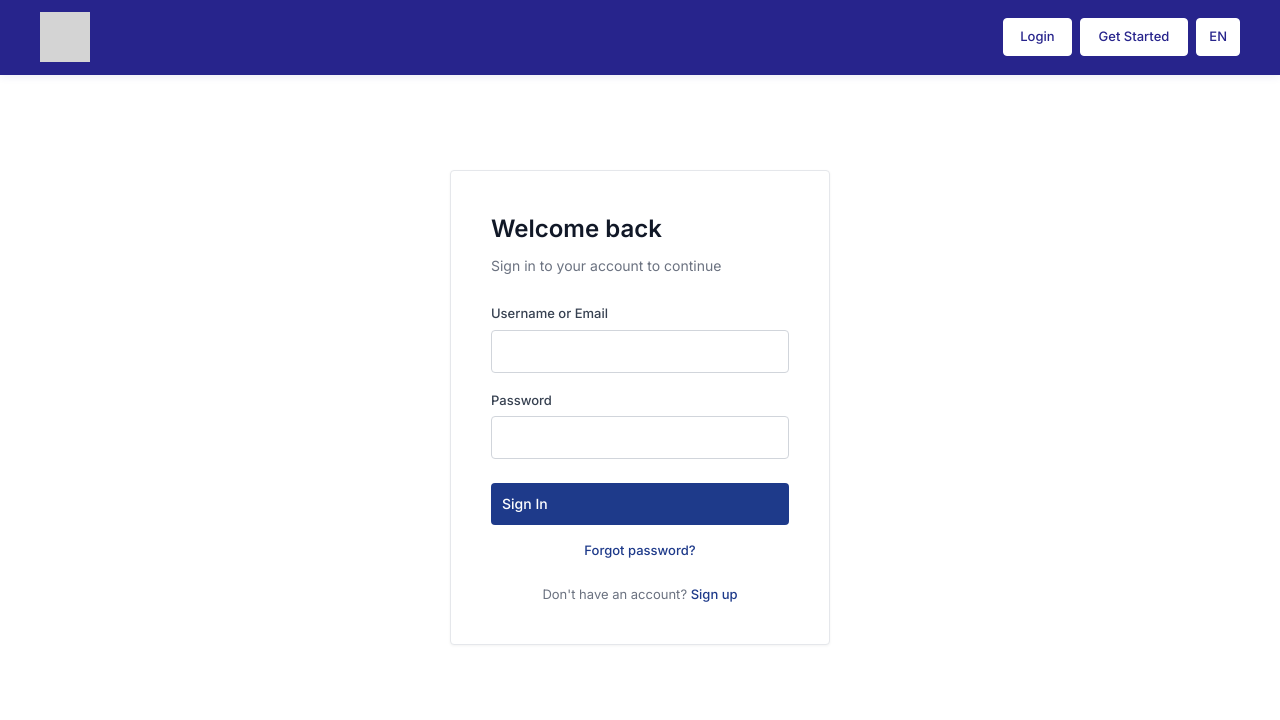
Test: Login Flow › shows error for unapproved account
In the field: (640, 352) 491,330 -> 789,373, type "pendinguser"
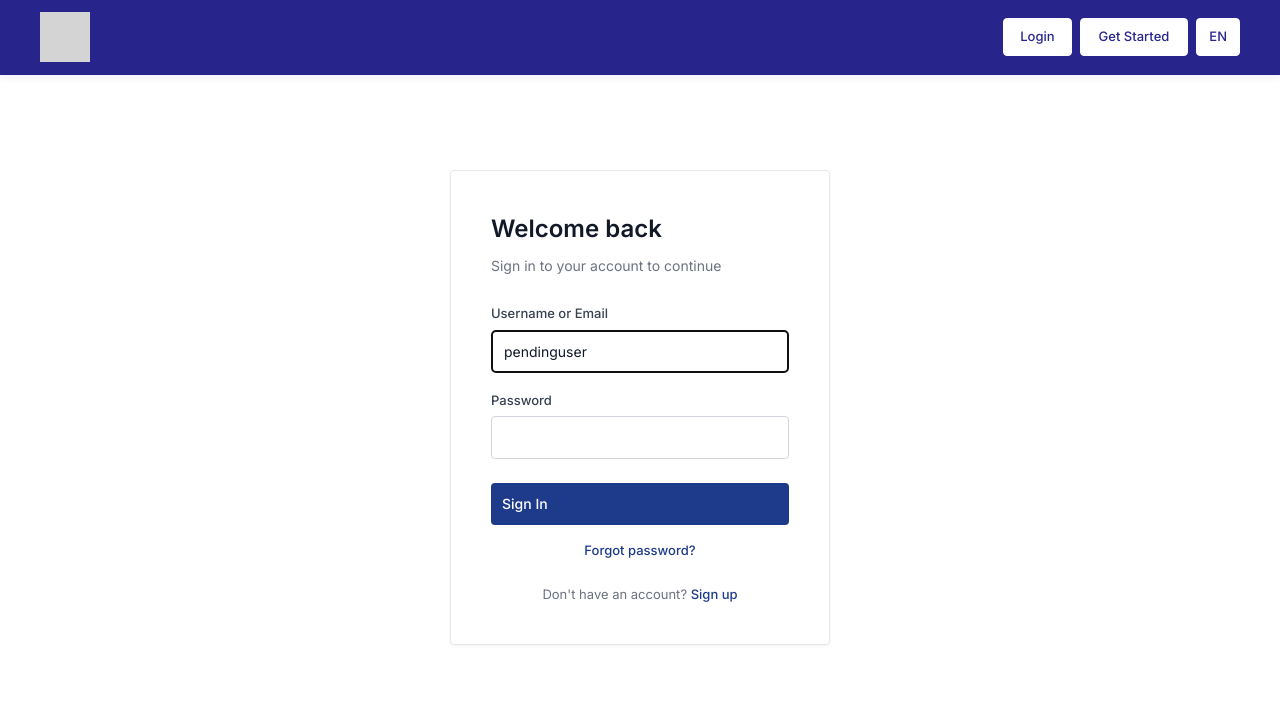
In the password field: (640, 438) 491,416 -> 789,459, type "pass123"
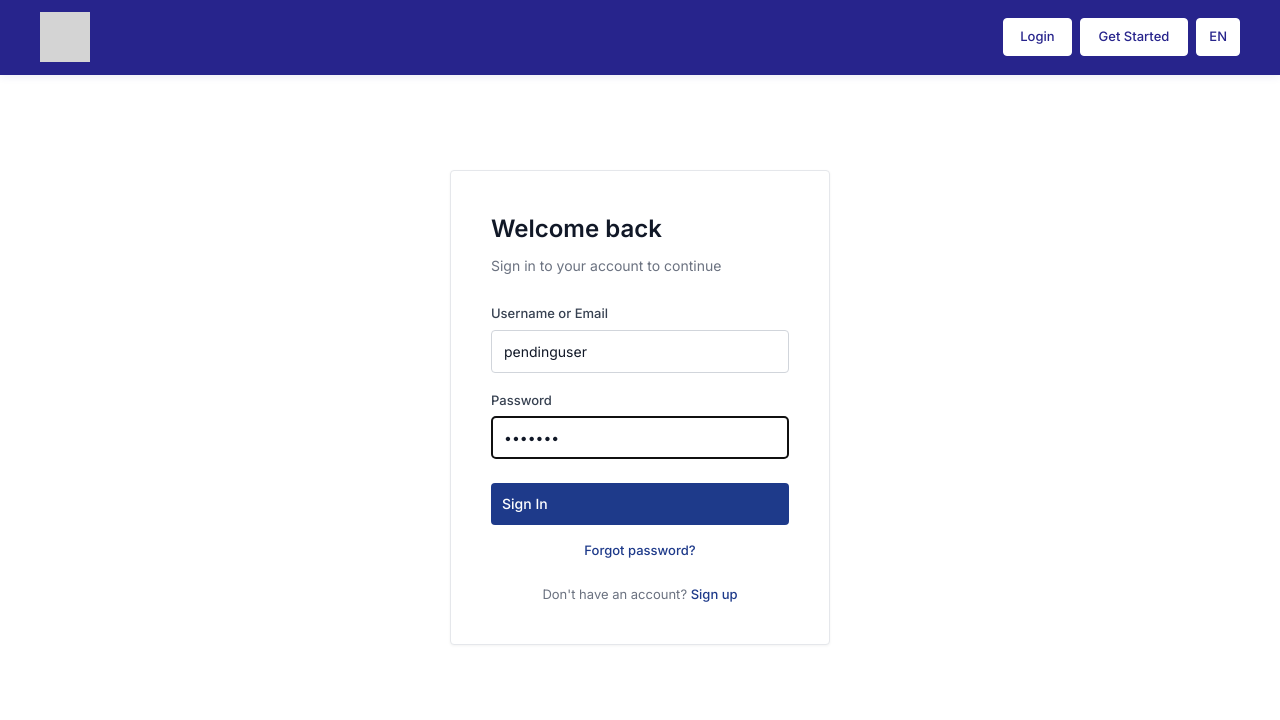
Click the submit button: (525, 504) 491,483 -> 789,525
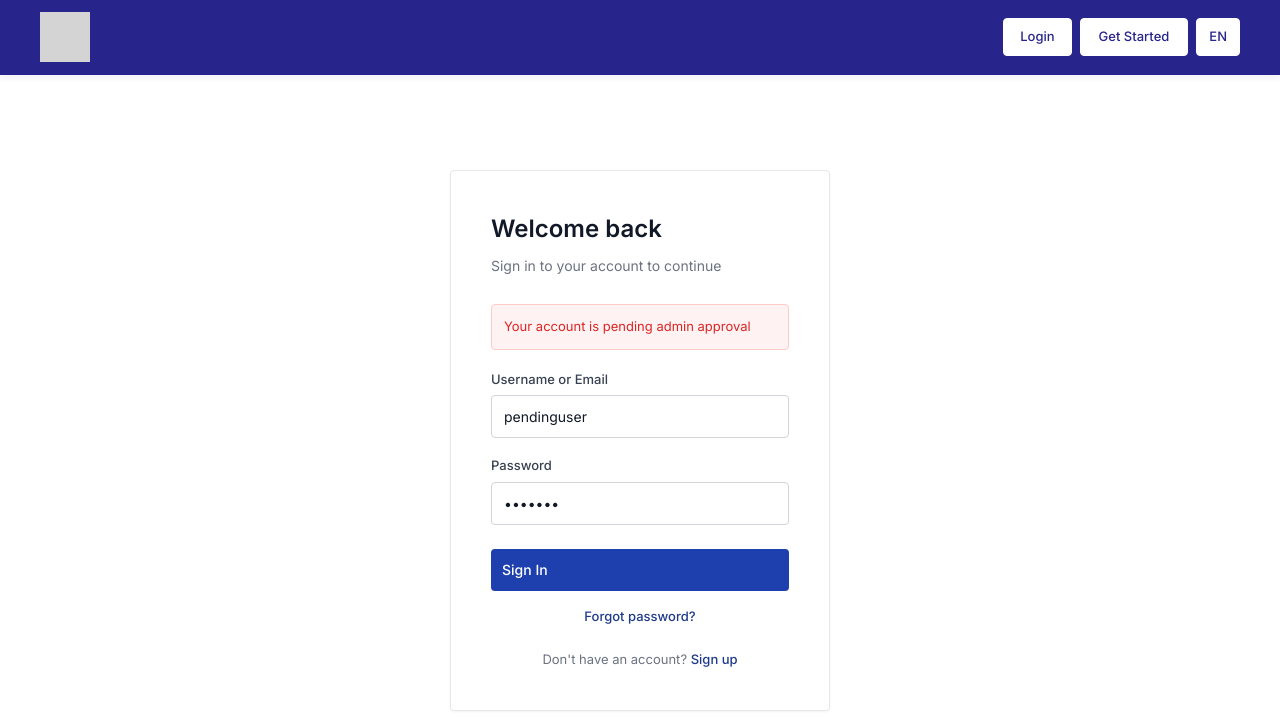
Expected: the text "pending admin approval" is shown, 504,318 -> 751,334
